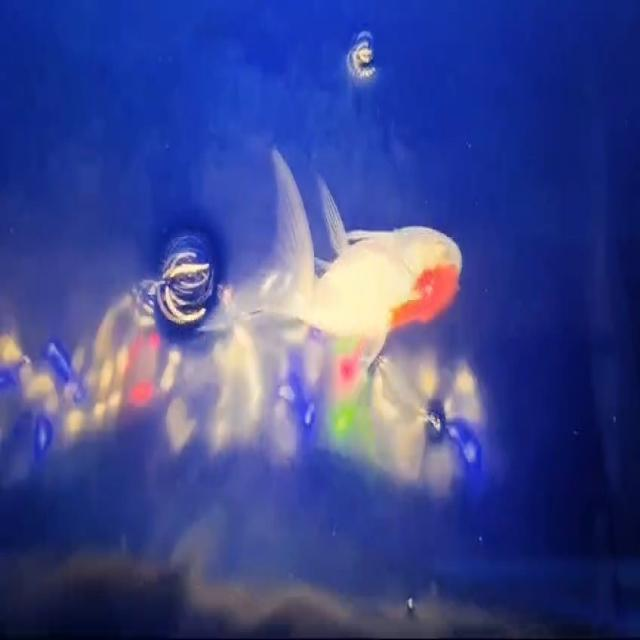fish: (224, 154, 478, 353)
